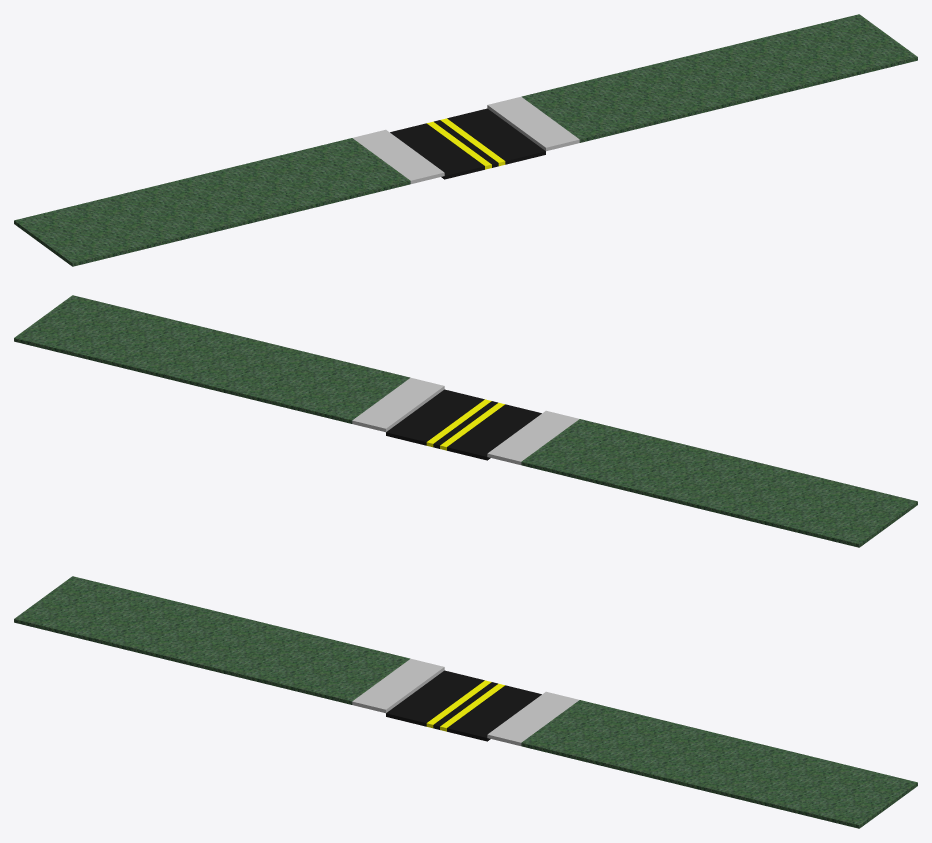
Rendered from Road.fbx.
The picture shows the model from 3 angles, top to bottom: view 1: azimuth 30°, elevation 25°; view 2: azimuth 150°, elevation 25°; view 3: azimuth 330°, elevation 25°; orthographic projection.
Visible parts, largest first — view 1: porch_floorCenter (×6); view 2: porch_floorCenter (×6); view 3: porch_floorCenter (×6).
Part boxes in pixels (x1,y1,x2,y2): porch_floorCenter (×6): [14, 14, 917, 266]; porch_floorCenter (×6): [14, 295, 917, 547]; porch_floorCenter (×6): [14, 576, 917, 828].
Size of the model in its own units: 250 by 2 by 30.
